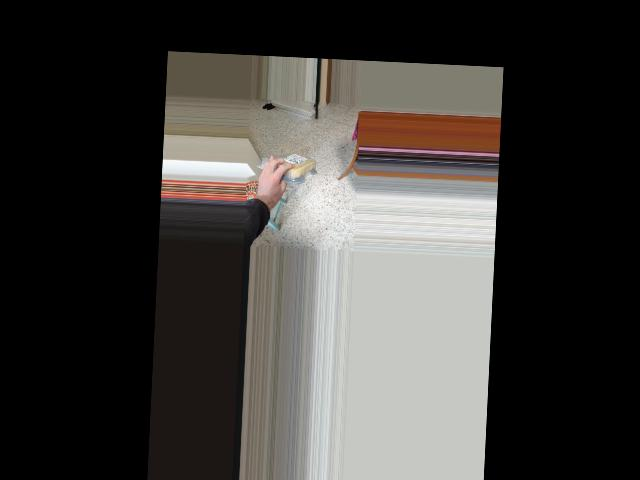cheese: (264, 152, 317, 180)
